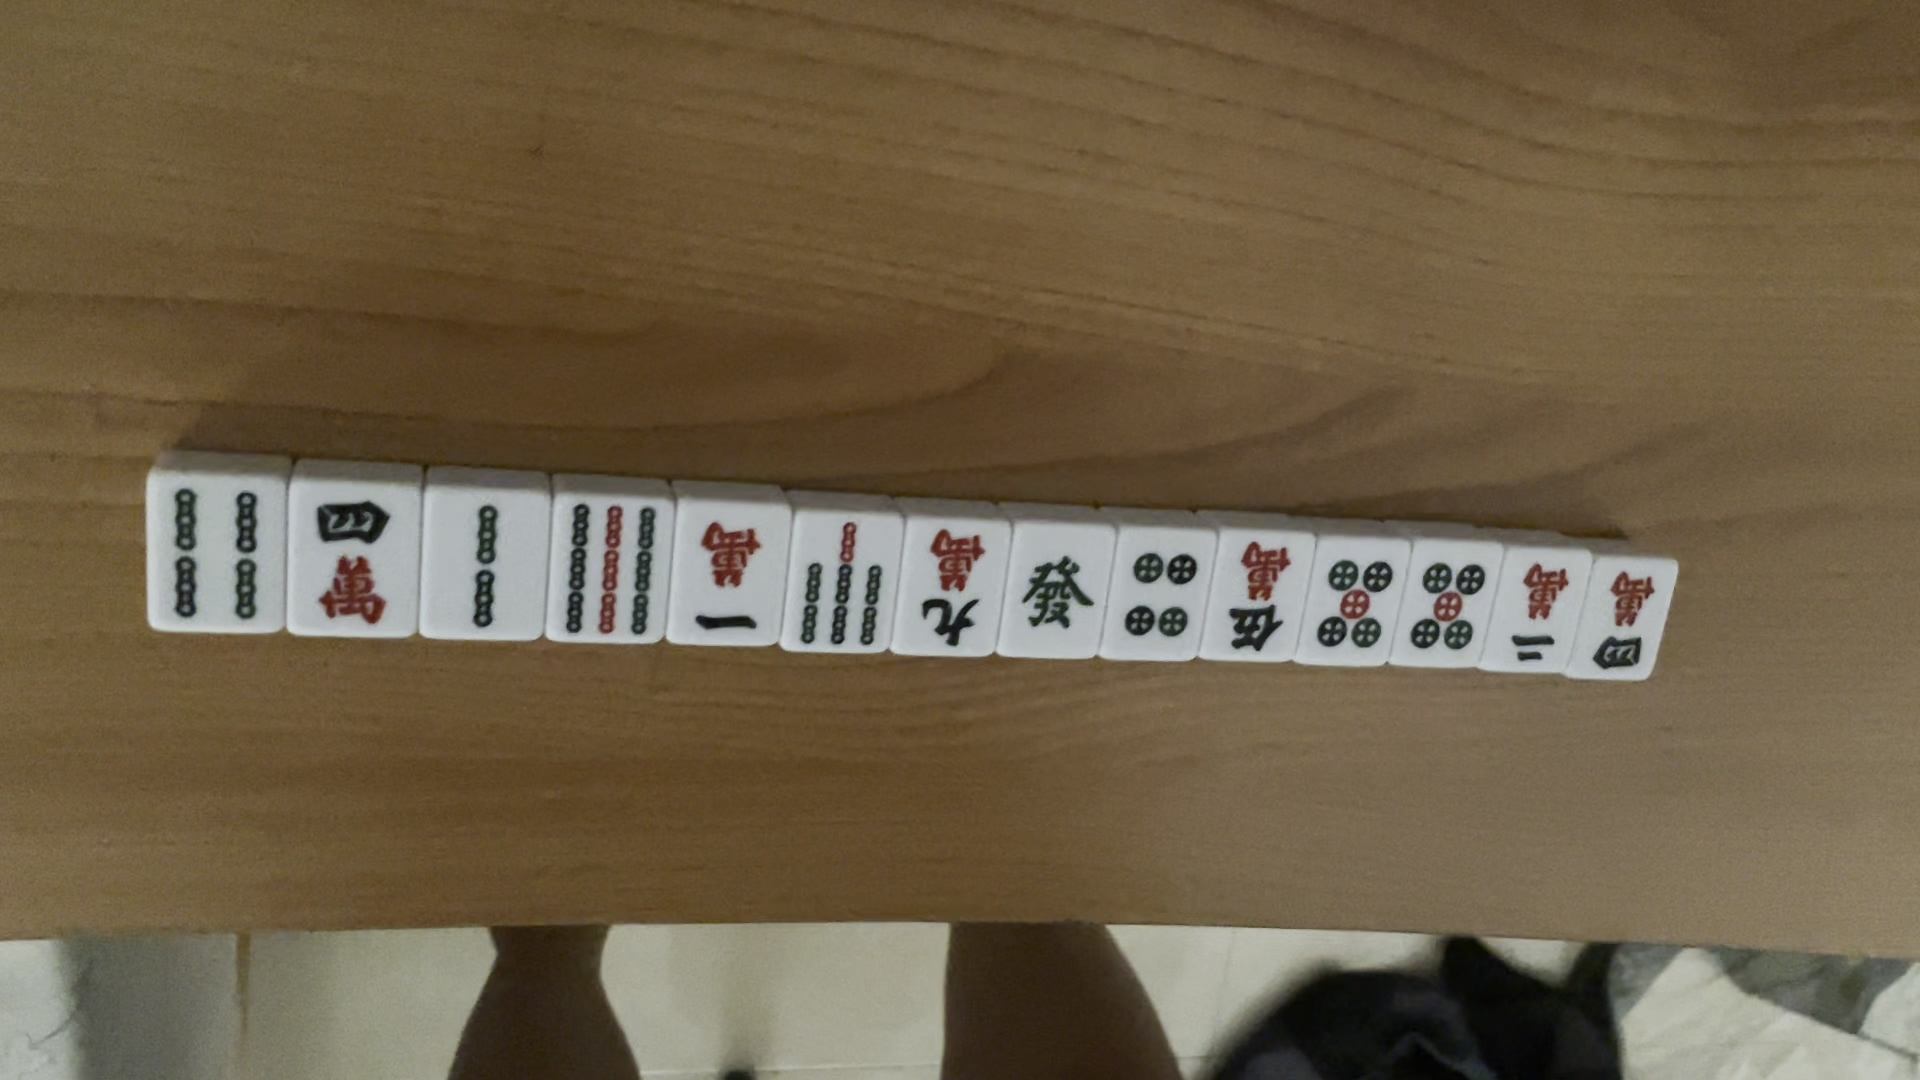b-2: (448, 498, 510, 632)
b-4: (156, 476, 265, 620)
b-7: (800, 518, 890, 646)
b-9: (564, 498, 665, 640)
c-1: (684, 521, 765, 637)
c-2: (1513, 556, 1575, 670)
c-4: (303, 495, 410, 636), (1586, 564, 1660, 669)
c-5: (1222, 541, 1299, 654)
c-9: (913, 530, 993, 657)
d-4: (1120, 549, 1204, 644)
d-5: (1407, 560, 1490, 651), (1317, 556, 1390, 653)
honors-green: (1019, 554, 1093, 641)
